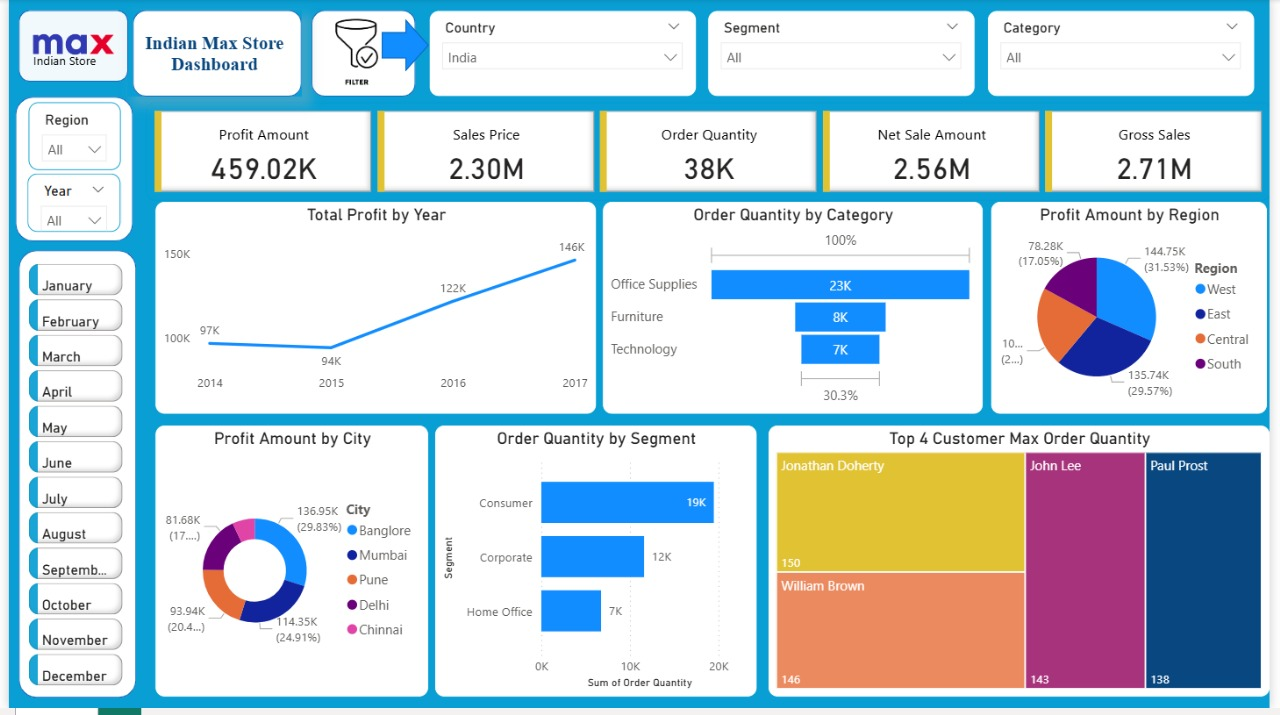

Layout of this report page (visuals, bound fields, positions):
{"tool":"powerbi","page":{"name":"Page 1","canvas":[1280,720],"ordinal":0},"visuals":[{"type":"shape","box":[9.6,11,111.1,72.7],"z":0},{"type":"image","box":[6.9,11,119.4,70],"z":1000},{"type":"textbox","box":[20.6,48,186.6,35.7],"z":2000},{"type":"shape","box":[6.9,98.8,119.4,146.8],"z":3000},{"type":"shape","box":[9.6,255.2,119.4,454.2],"z":4000},{"type":"advancedSlicerVisual","fields":{"Values":["Table1_2.Order Date.Variation.Date Hierarchy.Month"]},"box":[15.1,263.5,105.7,446],"z":5000},{"type":"cardVisual","fields":{"Data":["Table1_2.profit Amount","Table1_2.Sales Price","Table1_2.Order Quantity","Table1_2.Final Amount ","Table1_2.Gross Sales"]},"box":[138.6,104.3,1142,100],"z":6000},{"type":"slicer","fields":{"Values":["Table1_2.Country"]},"box":[426.8,11,271.7,87.8],"z":7000},{"type":"slicer","fields":{"Values":["Table1_2.Segment"]},"box":[709.4,11,271.7,87.8],"z":8000},{"type":"slicer","fields":{"Values":["Table1_2.Category"]},"box":[993.5,11,271.7,87.8],"z":9000},{"type":"shape","box":[307.4,11,105.7,87.8],"z":10000},{"type":"shape","box":[126.2,11,171.5,87.8],"z":11000},{"type":"textbox","box":[120.8,11,177,87.8],"z":12000},{"type":"lineChart","title":"  Total Profit by Year","fields":{"Category":["Table1_2.Order Date.Variation.Date Hierarchy.Year","Table1_2.Order Date.Variation.Date Hierarchy.Quarter","Table1_2.Order Date.Variation.Date Hierarchy.Month","Table1_2.Order Date.Variation.Date Hierarchy.Day"],"Y":["Table1_2.profit Amount"]},"box":[148.2,204.5,448.7,216.8],"z":13000},{"type":"funnel","title":"Order Quantity by Category","fields":{"Category":["Table1_2.Category"],"Y":["Table1_2.Order Quantity"]},"box":[602.4,204.5,387,216.8],"z":14000},{"type":"donutChart","title":"Profit Amount by City","fields":{"Category":["Table1_2.City"],"Y":["Table1_2.profit Amount"]},"box":[148.2,432.2,278.6,277.2],"z":15000},{"type":"barChart","title":"Order Quantity by Segment","fields":{"Y":["Table1_2.Order Quantity"],"Category":["Table1_2.Segment"]},"box":[432.2,432.2,328,277.2],"z":16000},{"type":"pieChart","title":"Profit Amount by Region","fields":{"Category":["Table1_2.Region"],"Y":["Table1_2.profit Amount"]},"box":[996.2,204.5,281.3,216.8],"z":17000},{"type":"treemap","title":"Top 4 Customer Max Order Quantity","fields":{"Group":["Table1_2.Customer_Name"],"Values":["Table1_2.Order Quantity"]},"box":[769.8,432.2,510.5,277.2],"z":18000},{"type":"slicer","fields":{"Values":["Table1_2.Region"]},"box":[20.6,104.3,93.3,68.6],"z":19000},{"type":"slicer","fields":{"Values":["Table1_2.Order Date.Variation.Date Hierarchy.Year"]},"box":[19.2,177,94.7,59],"z":20000},{"type":"shape","box":[378.7,20.6,48,53.5],"z":21000},{"type":"image","box":[287.1,0,131.5,103.8],"z":22000}]}

Visuals, with their boxes in screenshot pixels (x1, y1, x2, y2), scaled from the page's 1280x720 canvas onto the 1280x715 screenshot:
shape: bbox(10, 11, 121, 83)
image: bbox(7, 11, 126, 80)
textbox: bbox(21, 48, 207, 83)
shape: bbox(7, 98, 126, 244)
shape: bbox(10, 253, 129, 704)
advancedSlicerVisual - Table1_2.Order Date.Variation.Date Hierarchy.Month: bbox(15, 262, 121, 705)
cardVisual - Table1_2.profit Amount x Table1_2.Sales Price: bbox(139, 104, 1279, 203)
slicer - Table1_2.Country: bbox(427, 11, 698, 98)
slicer - Table1_2.Segment: bbox(709, 11, 981, 98)
slicer - Table1_2.Category: bbox(994, 11, 1265, 98)
shape: bbox(307, 11, 413, 98)
shape: bbox(126, 11, 298, 98)
textbox: bbox(121, 11, 298, 98)
"  Total Profit by Year" lineChart: bbox(148, 203, 597, 418)
"Order Quantity by Category" funnel: bbox(602, 203, 989, 418)
"Profit Amount by City" donutChart: bbox(148, 429, 427, 704)
"Order Quantity by Segment" barChart: bbox(432, 429, 760, 704)
"Profit Amount by Region" pieChart: bbox(996, 203, 1278, 418)
"Top 4 Customer Max Order Quantity" treemap: bbox(770, 429, 1279, 704)
slicer - Table1_2.Region: bbox(21, 104, 114, 172)
slicer - Table1_2.Order Date.Variation.Date Hierarchy.Year: bbox(19, 176, 114, 234)
shape: bbox(379, 20, 427, 74)
image: bbox(287, 0, 419, 103)
